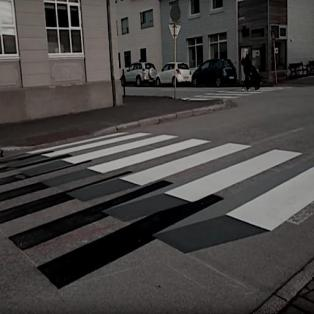Paso de Cebra: (84, 137, 258, 188)
